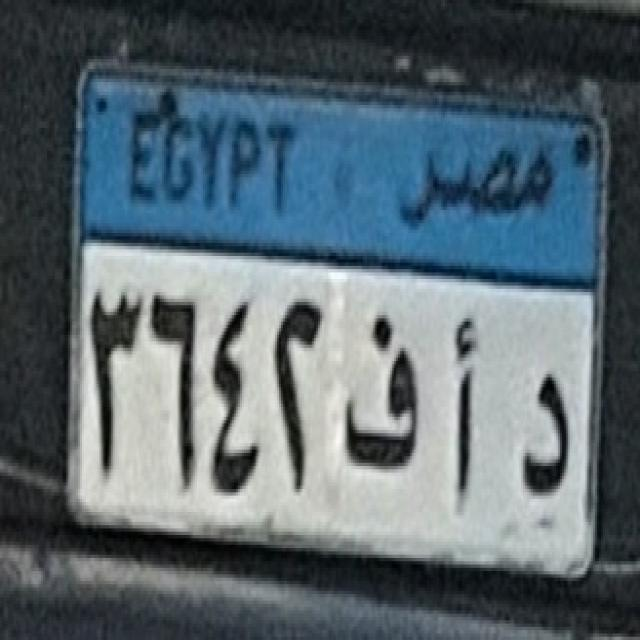2: (264, 290, 329, 495)
3: (80, 271, 146, 484)
4: (204, 290, 263, 496)
6: (138, 292, 212, 490)
F: (333, 300, 430, 494)
alef: (438, 301, 496, 525)
daal: (516, 359, 580, 514)
